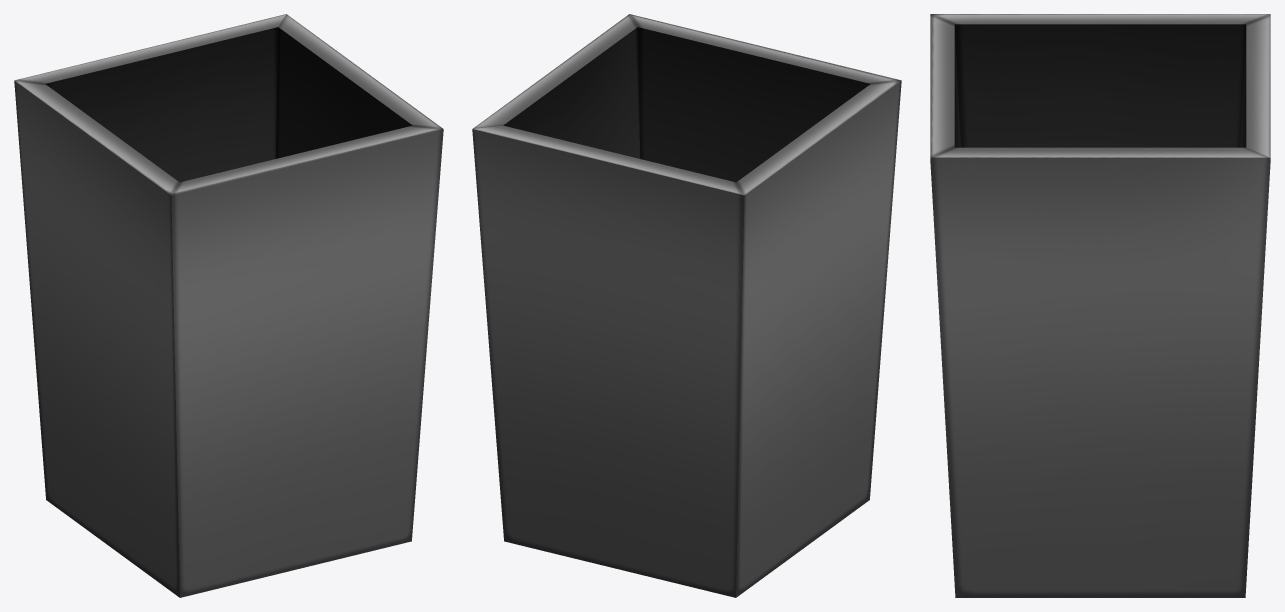
File: TrashBox.FBX
3 renders of one model, left to right at view 1: azimuth 30°, elevation 25°; view 2: azimuth 150°, elevation 25°; view 3: azimuth 270°, elevation 25°, orthographic. The views are drawn at different scales.
Parts seen in each view (by area): view 1: Box091; view 2: Box091; view 3: Box091.
Boxes of the visible parts, x1,y1,x2,y2 form: Box091: (14,14,443,597); Box091: (472,14,901,597); Box091: (930,14,1270,597).
Size of the model in its own units: 8.73 by 12.75 by 8.73.
1 material, 1 textured.
